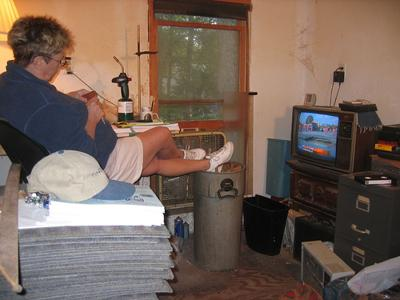person: (2, 16, 234, 186)
